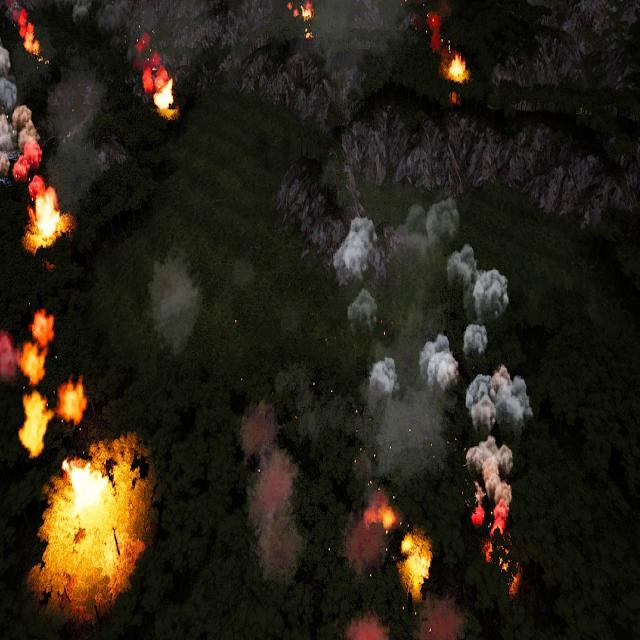fire: (42, 452, 137, 579), (18, 311, 88, 458), (470, 500, 521, 594), (28, 183, 64, 249), (401, 536, 432, 593), (146, 66, 177, 116), (363, 500, 397, 536), (19, 12, 42, 59), (286, 0, 313, 25), (448, 54, 468, 83)
smoke: (334, 200, 532, 539), (238, 391, 304, 576), (0, 49, 53, 194), (144, 242, 208, 358), (423, 592, 471, 640), (345, 607, 387, 640), (0, 331, 18, 385)
